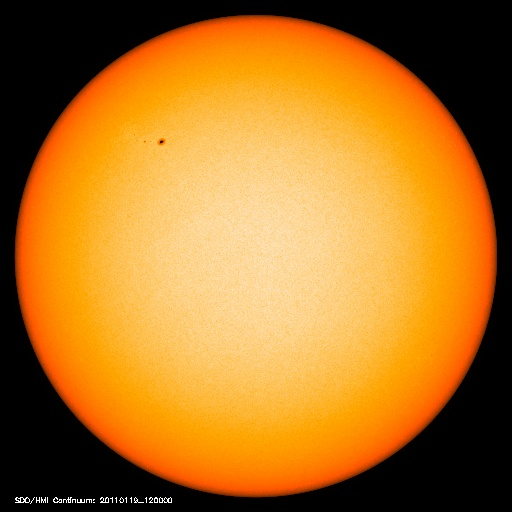sunspot: (123, 126, 179, 153)
